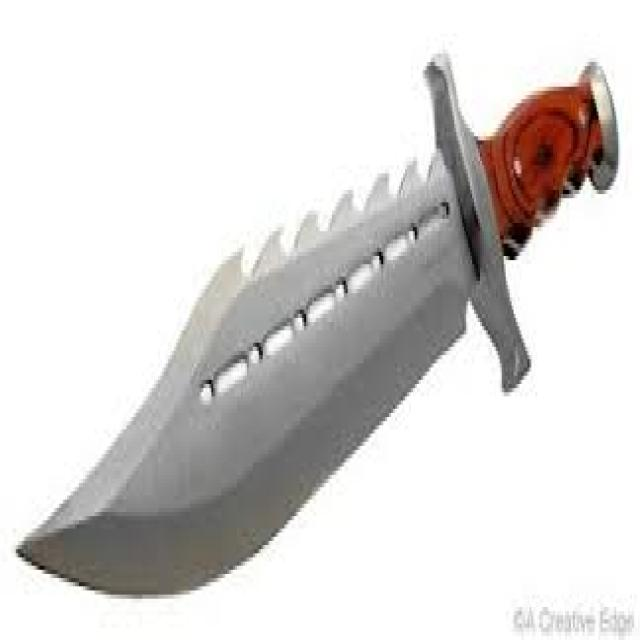knife: (12, 42, 618, 612)
